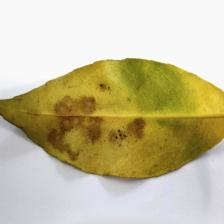canker: (42, 86, 156, 167)
